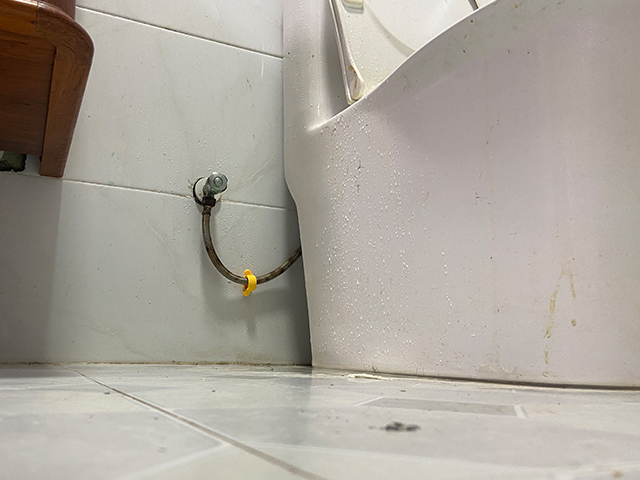closestool: (280, 1, 640, 388)
